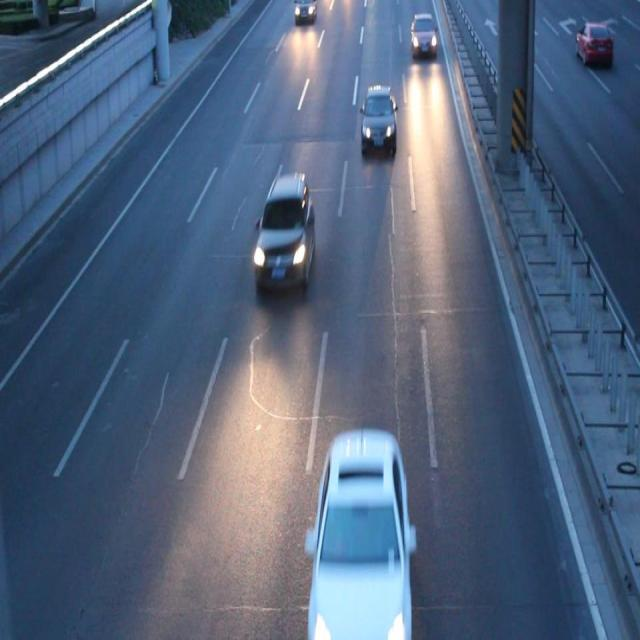car: (306, 430, 416, 640), (252, 172, 314, 290), (359, 84, 396, 154), (409, 14, 436, 58)
